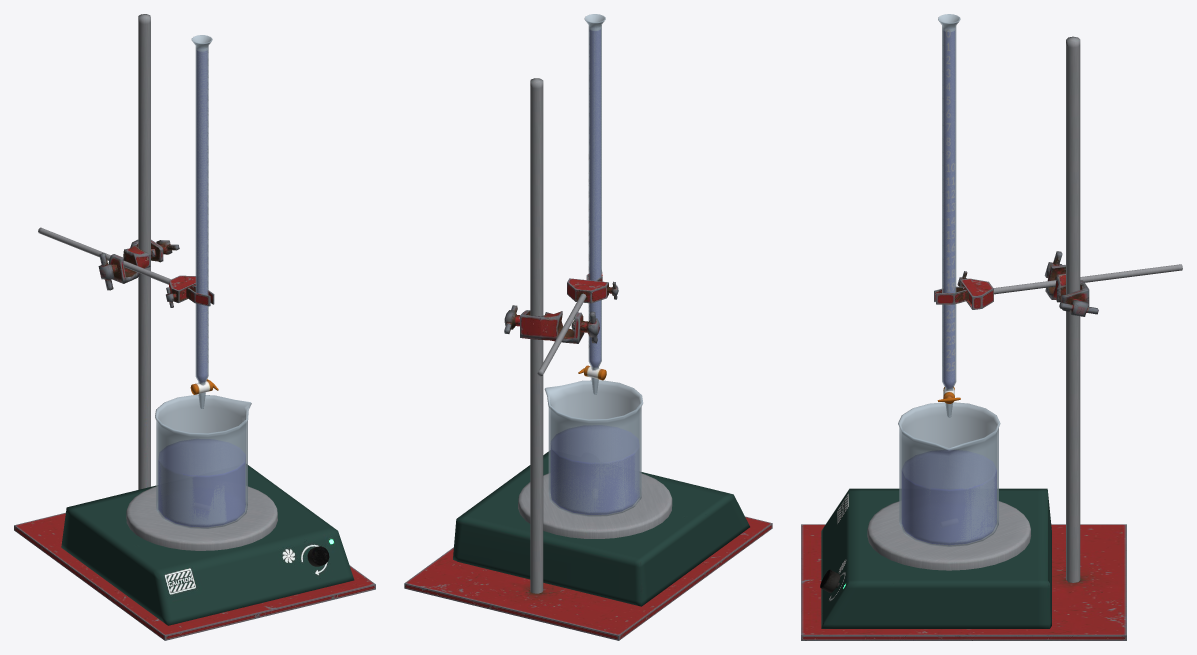
The picture shows the model from 3 angles, left to right: view 1: azimuth 30°, elevation 25°; view 2: azimuth 150°, elevation 25°; view 3: azimuth 270°, elevation 25°; orthographic projection. The views are drawn at different scales.
Parts seen in each view (by area): view 1: Agitateur_magnetique.001, Distillation_support_gauche.002, Becher_low.001, Becher_liquid_low.001, Burette_25.001, Burette_25_liquide.001; view 2: Agitateur_magnetique.001, Distillation_support_gauche.002, Becher_low.001, Becher_liquid_low.001, Burette_25.001, Burette_25_liquide.001; view 3: Agitateur_magnetique.001, Distillation_support_gauche.002, Becher_low.001, Becher_liquid_low.001, Burette_25.001, Burette_25_liquide.001.
Part boxes in pixels (<box>): Agitateur_magnetique.001: <box>61,464,354,625</box>; Distillation_support_gauche.002: <box>14,14,375,640</box>; Becher_low.001: <box>155,394,251,528</box>; Becher_liquid_low.001: <box>158,439,245,526</box>; Burette_25.001: <box>190,35,218,408</box>; Burette_25_liquide.001: <box>197,48,207,382</box>; Agitateur_magnetique.001: <box>453,451,749,606</box>; Distillation_support_gauche.002: <box>404,78,772,640</box>; Becher_low.001: <box>544,380,643,516</box>; Becher_liquid_low.001: <box>551,426,639,514</box>; Burette_25.001: <box>578,14,606,394</box>; Burette_25_liquide.001: <box>590,27,600,367</box>; Agitateur_magnetique.001: <box>820,488,1051,628</box>; Distillation_support_gauche.002: <box>801,36,1182,640</box>; Becher_low.001: <box>898,402,1000,546</box>; Becher_liquid_low.001: <box>902,450,996,544</box>; Burette_25.001: <box>937,14,960,417</box>; Burette_25_liquide.001: <box>943,27,954,388</box>.
Size of the model in its own units: 0.2993 by 0.7134 by 0.4351.
2 materials, 2 textured.
